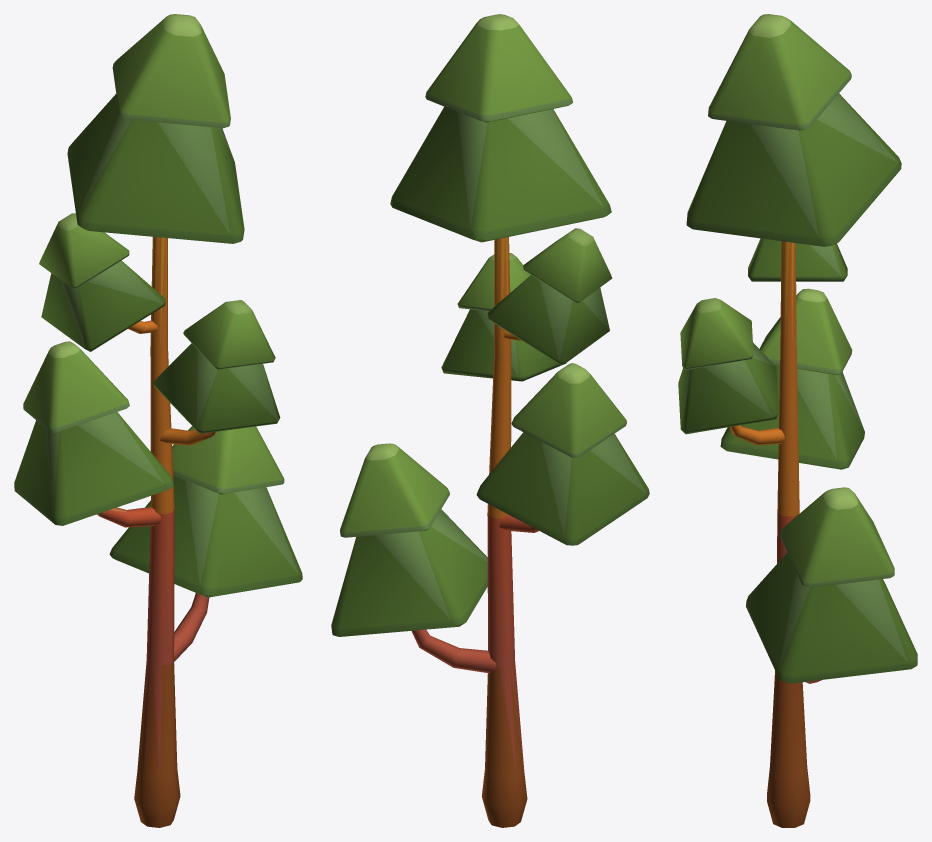
File: itch_kaykit_forest_tree_4_c_color1.glb
3 renders of one model, left to right at view 1: azimuth 30°, elevation 25°; view 2: azimuth 150°, elevation 25°; view 3: azimuth 270°, elevation 25°, orthographic. The views are drawn at different scales.
Parts seen in each view (by area): view 1: Tree_4_C_Color1; view 2: Tree_4_C_Color1; view 3: Tree_4_C_Color1.
Part boxes in pixels (bbox=[...]): Tree_4_C_Color1: bbox=[14, 14, 302, 827]; Tree_4_C_Color1: bbox=[331, 14, 649, 827]; Tree_4_C_Color1: bbox=[678, 14, 917, 827].
Size of the model in its own units: 1.11 by 3.2 by 0.8522.
